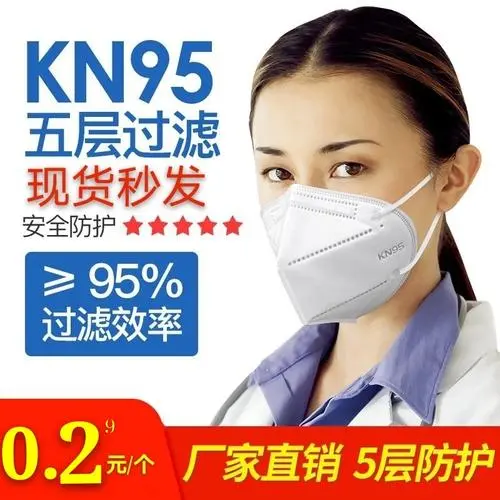withmask: (239, 7, 490, 335)
